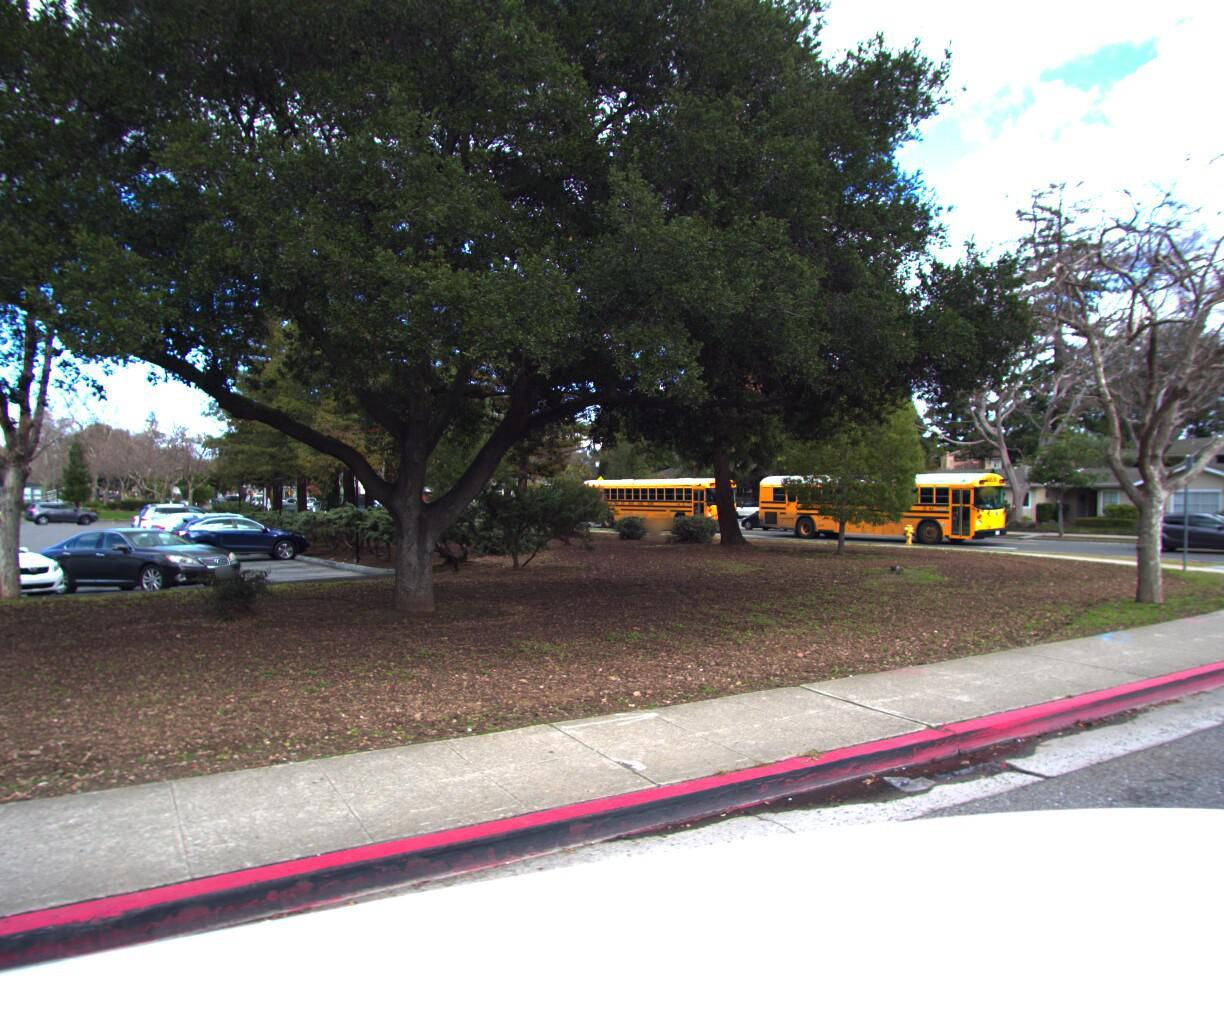bus: (753, 472, 1028, 553), (572, 478, 750, 537)
car: (1134, 513, 1224, 561), (722, 505, 800, 534), (723, 502, 779, 522)
